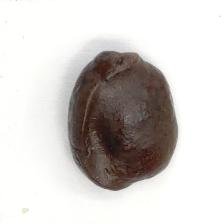NG: (76, 59, 143, 161)
